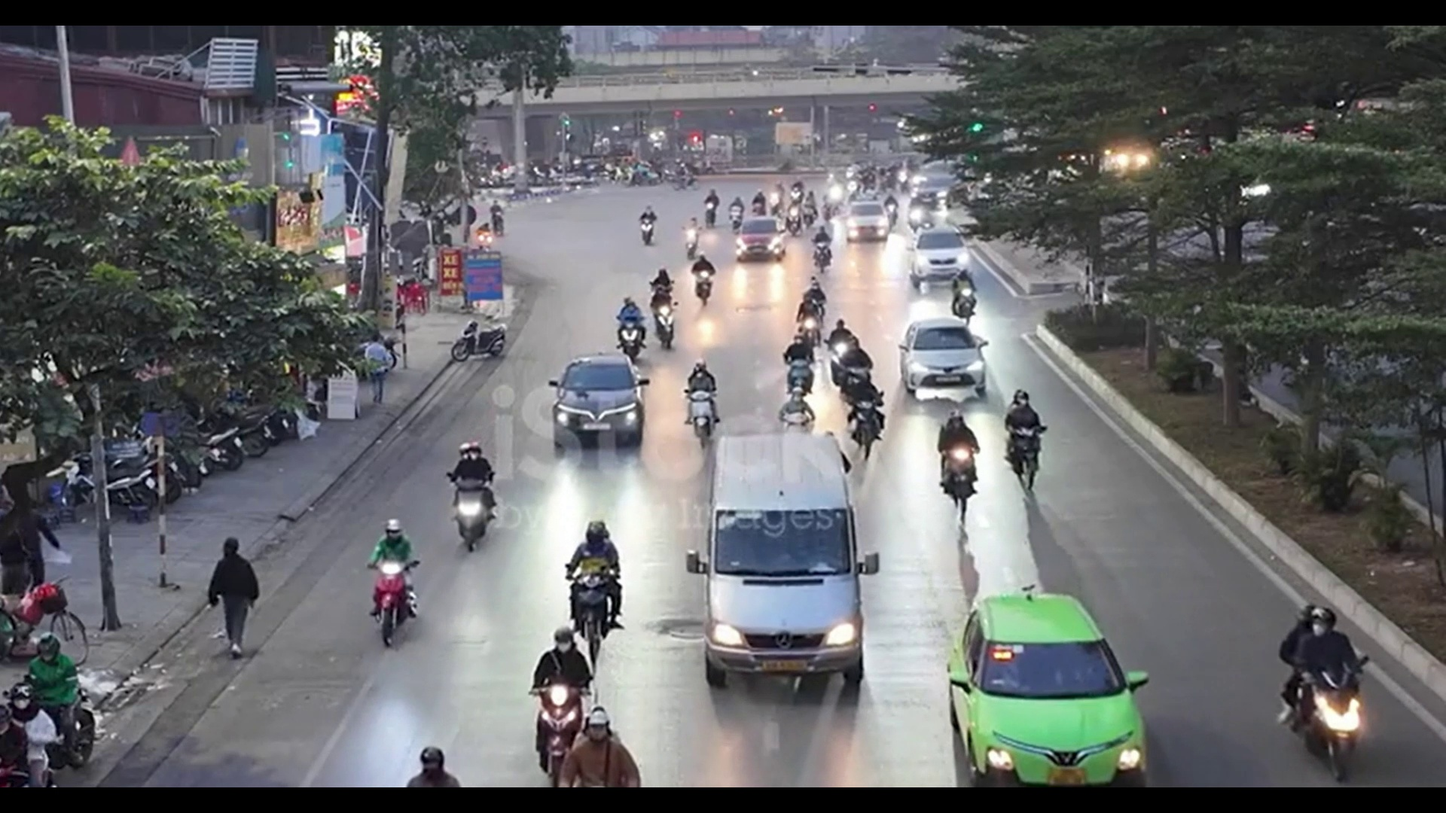car: (946, 584, 1153, 786), (550, 353, 643, 452), (899, 318, 988, 400), (909, 228, 968, 292), (734, 215, 790, 262)
motorcycle: (1282, 667, 1364, 784), (369, 560, 420, 649), (452, 482, 499, 553), (940, 437, 979, 504)
truck: (701, 423, 866, 680)
